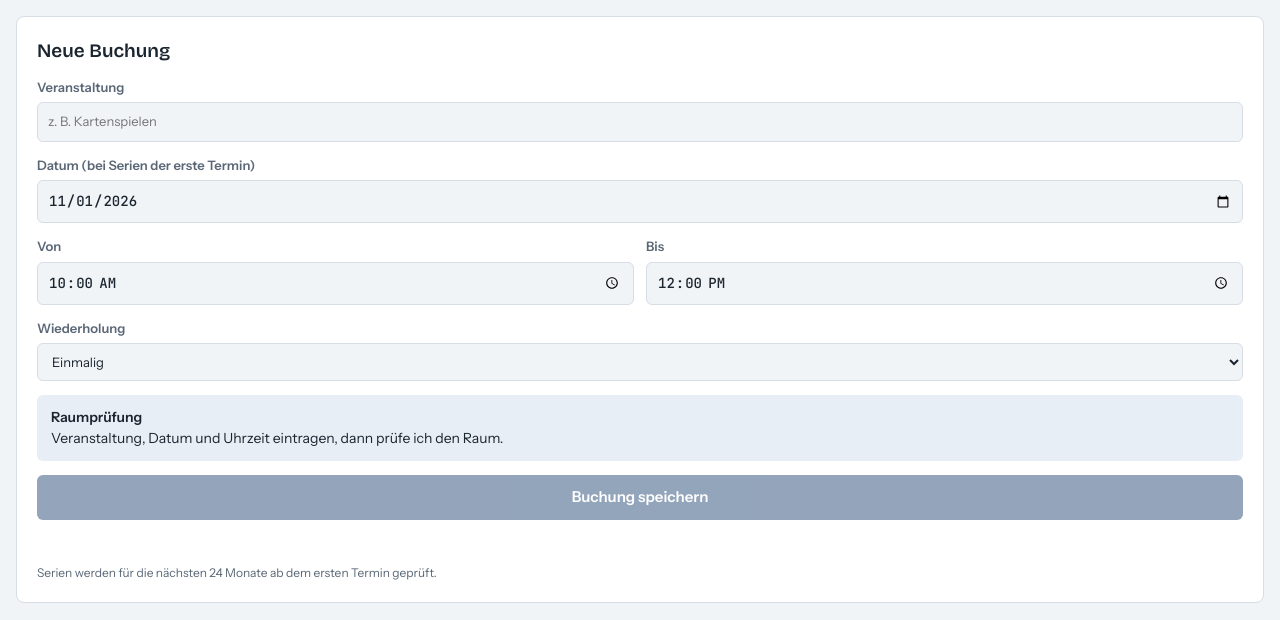
Test: BookingForm › shows "Raum frei" and saves without force
Type "Chor" into the field labelled "Veranstaltung". click: {"x": 640, "y": 122}
box: [37,102,1243,142]
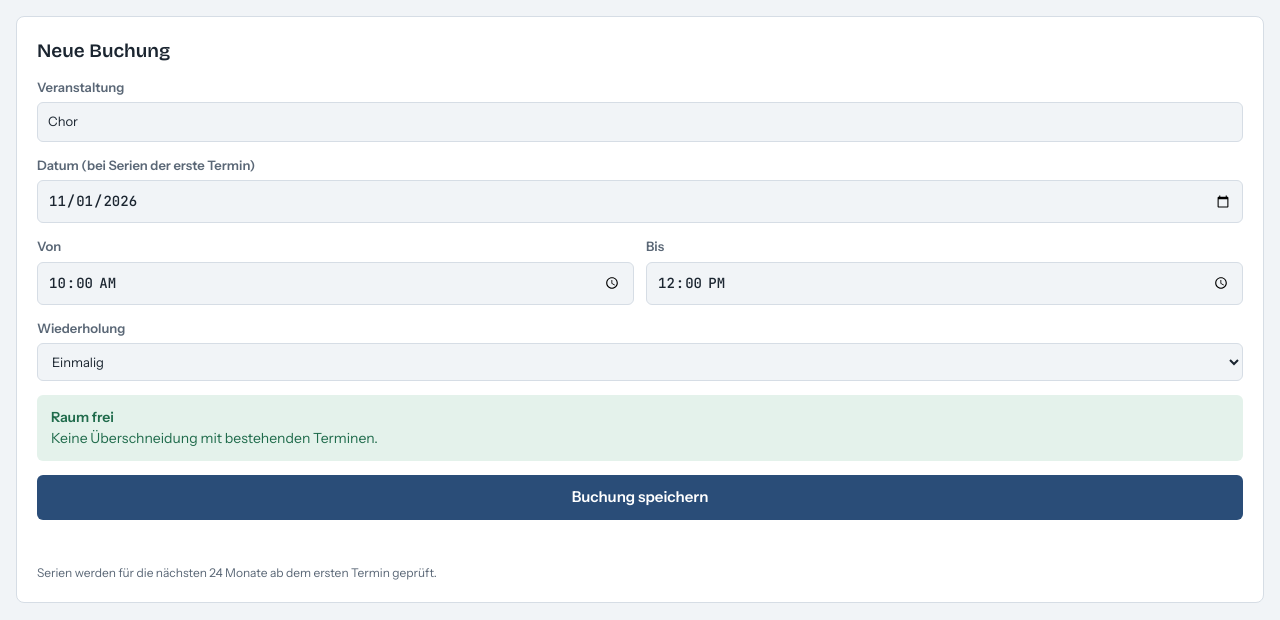
Type "2026-12-15" into the date field labelled "Datum (bei Serien der erste Termin)". click: {"x": 640, "y": 202}
box: [37,180,1243,223]
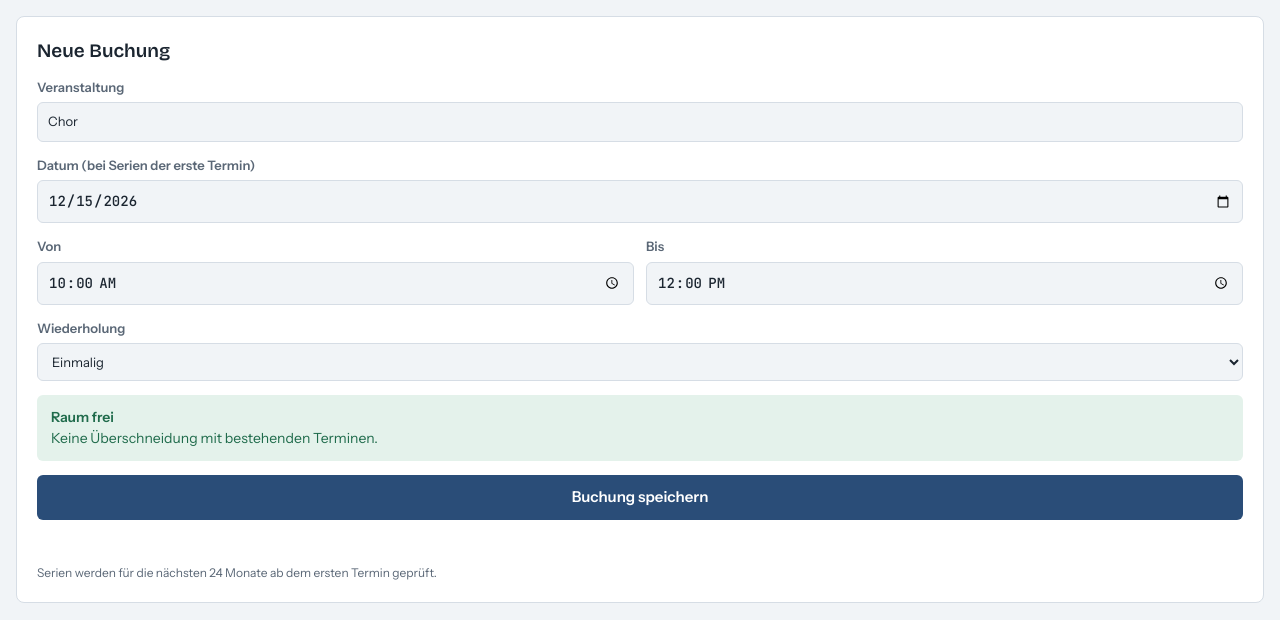
Replace the text in the time field labelled "Von" with "17:00". click: {"x": 336, "y": 283}
box: [37,262,634,304]
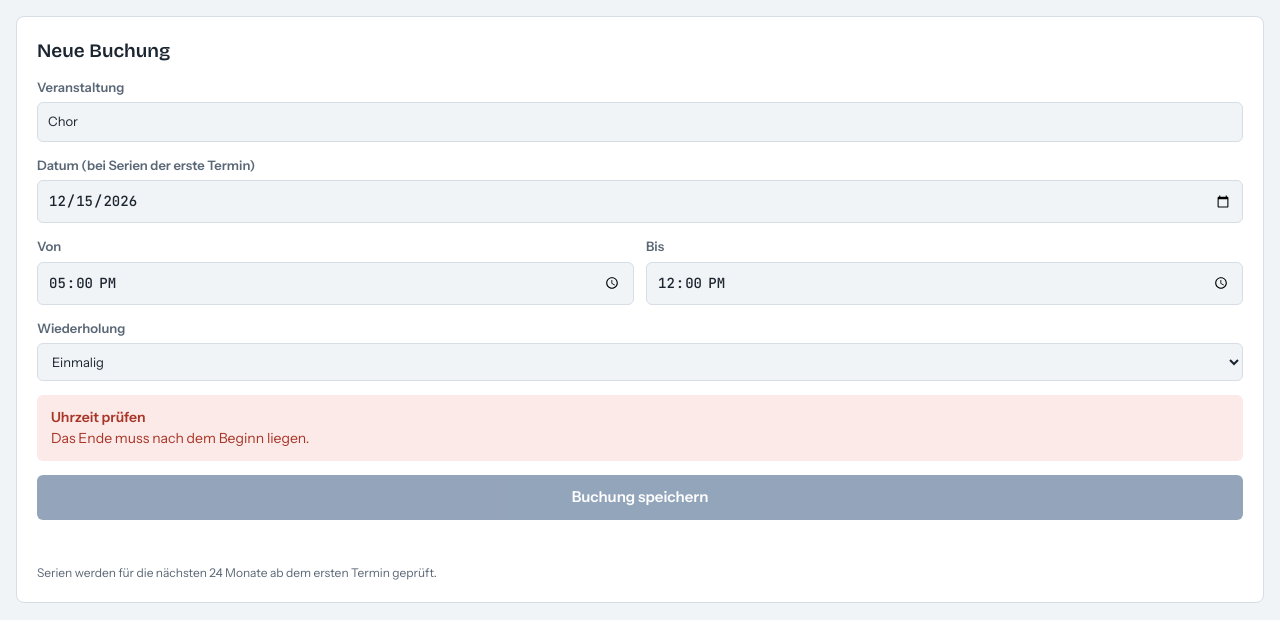
Replace the text in the time field labelled "Bis" with "19:00". click: {"x": 944, "y": 283}
box: [646,262,1243,304]
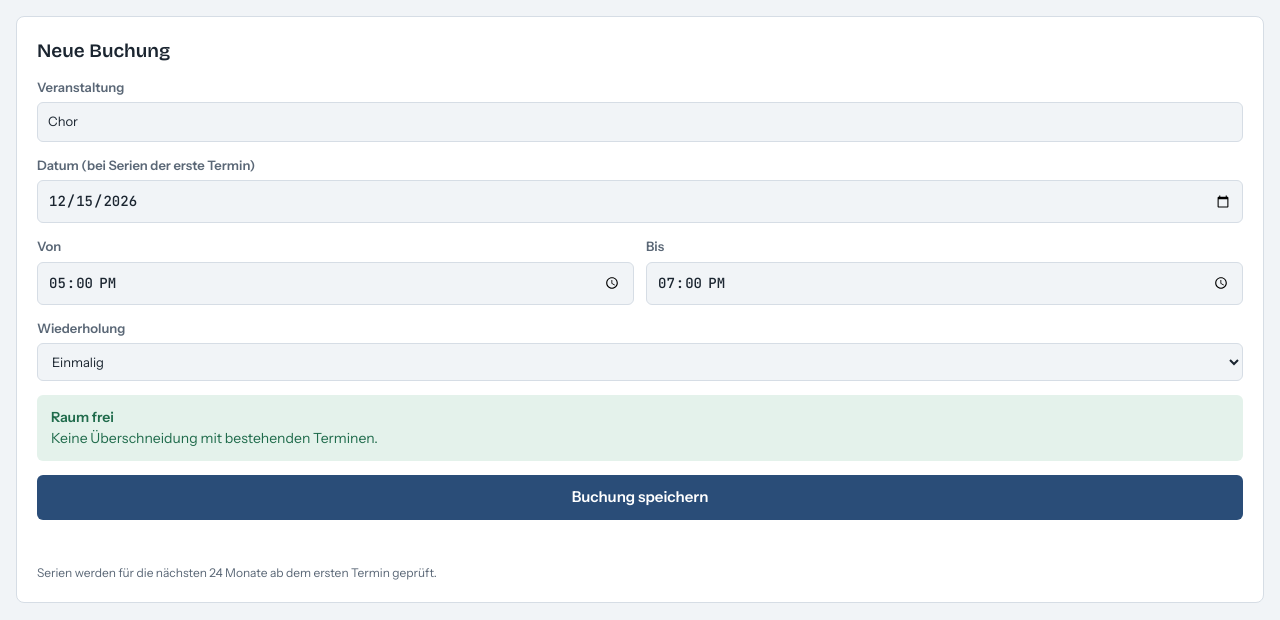
Check: the message with test id "check" shows "Raum frei", box [51,408,114,426]
Click the button "Buchung speichern". click: {"x": 640, "y": 497}
box: [37,475,1243,520]
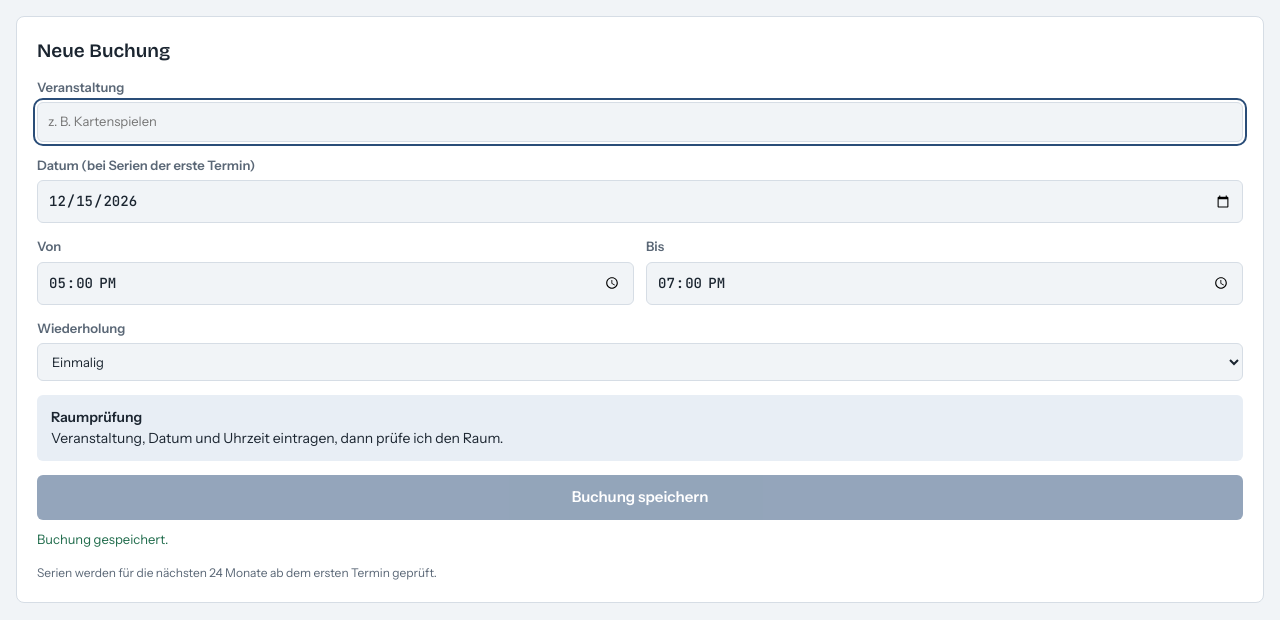
Check: the text "Buchung gespeichert." is shown, box [37,530,168,546]
Check: the field labelled "Veranstaltung" is empty, box [37,102,1243,142]
